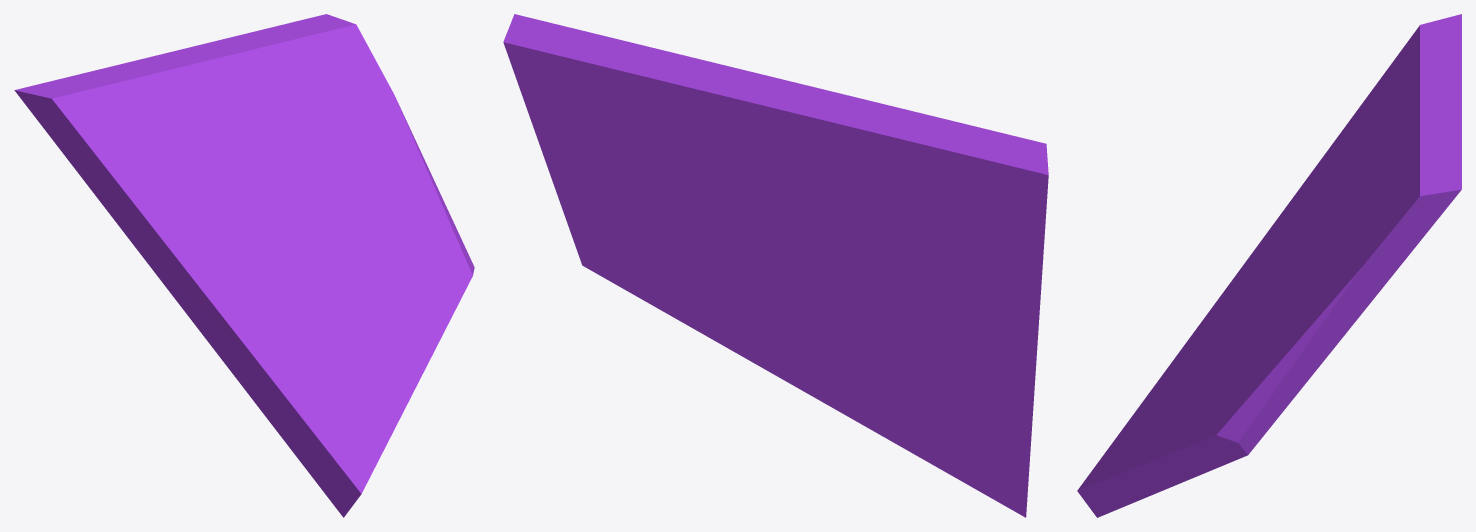
Rendered from Window_85_1_chunks.fbx.
3 views of the same model, side by side, from view 1: azimuth 30°, elevation 25°; view 2: azimuth 150°, elevation 25°; view 3: azimuth 270°, elevation 25° (orthographic). The views are drawn at different scales.
Parts seen in each view (by area): view 1: Window_85_1_13, Window_85_1_6, Window_85_1_0, Window_85_1_7, Window_85_1_12, Window_85_1_14, Window_85_1_2, Window_85_1_15, Window_85_1_3, Window_85_1_5, Window_85_1_10, Window_85_1_1 (+2 smaller); view 2: Window_85_1_8, Window_85_1_0, Window_85_1_6, Window_85_1_10, Window_85_1_14, Window_85_1_5, Window_85_1_9, Window_85_1_3, Window_85_1_1, Window_85_1_4, Window_85_1_12, Window_85_1_2 (+1 smaller); view 3: Window_85_1_6, Window_85_1_13, Window_85_1_0, Window_85_1_3, Window_85_1_7, Window_85_1_5, Window_85_1_12, Window_85_1_2, Window_85_1_14, Window_85_1_15, Window_85_1_1, Window_85_1_4.
Boxes of the visible parts, x1,y1,x2,y2 form: Window_85_1_13: [155, 170, 338, 399]; Window_85_1_6: [279, 287, 418, 517]; Window_85_1_0: [133, 15, 353, 135]; Window_85_1_7: [336, 185, 466, 310]; Window_85_1_12: [106, 61, 295, 179]; Window_85_1_14: [14, 68, 157, 247]; Window_85_1_2: [301, 118, 436, 208]; Window_85_1_15: [110, 142, 203, 262]; Window_85_1_3: [322, 14, 421, 153]; Window_85_1_5: [392, 248, 474, 381]; Window_85_1_10: [170, 285, 278, 433]; Window_85_1_1: [235, 115, 309, 174]; Window_85_1_8: [772, 148, 1043, 336]; Window_85_1_0: [512, 15, 840, 144]; Window_85_1_6: [783, 329, 1030, 517]; Window_85_1_10: [859, 293, 1037, 450]; Window_85_1_14: [889, 117, 1048, 248]; Window_85_1_5: [571, 233, 830, 406]; Window_85_1_9: [719, 191, 897, 331]; Window_85_1_3: [503, 14, 653, 188]; Window_85_1_1: [648, 134, 833, 227]; Window_85_1_4: [649, 218, 865, 337]; Window_85_1_12: [821, 89, 935, 177]; Window_85_1_2: [555, 175, 727, 235]; Window_85_1_6: [1077, 331, 1235, 517]; Window_85_1_13: [1161, 183, 1334, 376]; Window_85_1_0: [1347, 81, 1461, 241]; Window_85_1_3: [1318, 187, 1461, 363]; Window_85_1_7: [1205, 298, 1314, 422]; Window_85_1_5: [1148, 399, 1278, 490]; Window_85_1_12: [1324, 60, 1461, 243]; Window_85_1_2: [1289, 232, 1354, 372]; Window_85_1_14: [1355, 14, 1461, 126]; Window_85_1_15: [1278, 113, 1369, 217]; Window_85_1_1: [1320, 167, 1374, 250]; Window_85_1_4: [1228, 303, 1280, 356].
Size of the model in its own units: 809 by 753 by 644.
